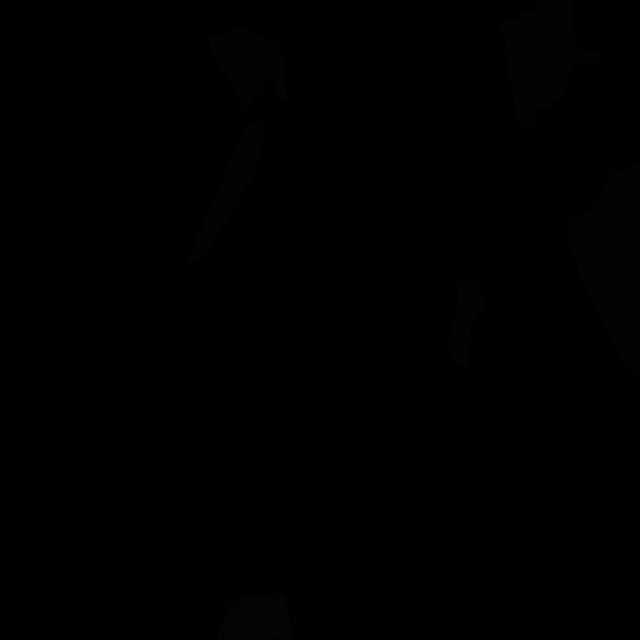cardboard: (566, 161, 640, 382), (500, 0, 602, 131), (186, 121, 266, 263), (206, 26, 288, 111), (450, 279, 484, 367)
rigid_plastic: (0, 149, 7, 191)
soft_plastic: (216, 592, 292, 640)
